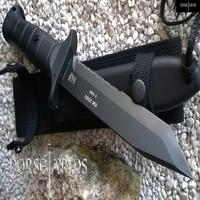knife: (7, 7, 194, 181)
